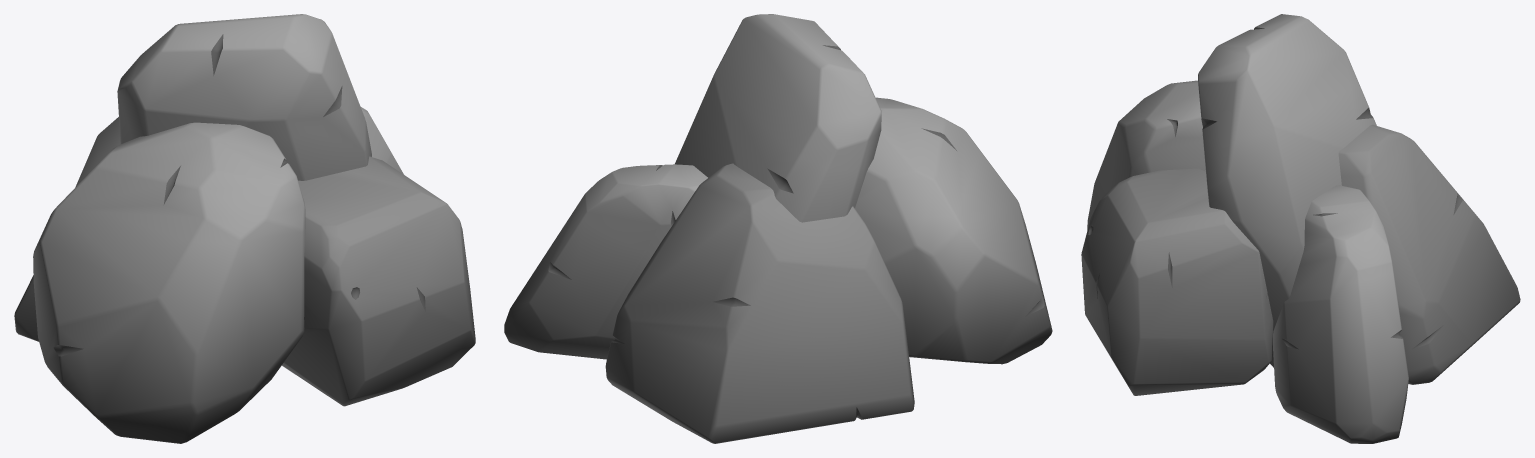
The model's file is RockCliff04.fbx.
3 views of the same model, side by side, from view 1: azimuth 30°, elevation 25°; view 2: azimuth 150°, elevation 25°; view 3: azimuth 270°, elevation 25° (orthographic). The views are drawn at different scales.
Parts seen in each view (by area): view 1: LOD0; view 2: LOD0; view 3: LOD0.
Boxes of the visible parts, left/top/right/bottom form: LOD0: left=14, top=14, right=475, bottom=443; LOD0: left=504, top=14, right=1052, bottom=443; LOD0: left=1081, top=14, right=1520, bottom=443.
Size of what is drawn, in the model's own units: 987 by 865 by 680.
